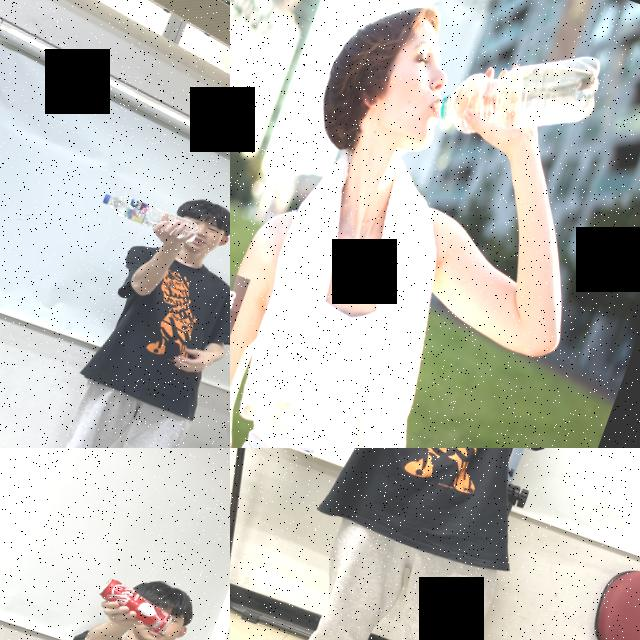bottle: (428, 12, 612, 180), (99, 188, 202, 245)
can: (92, 573, 180, 638)
